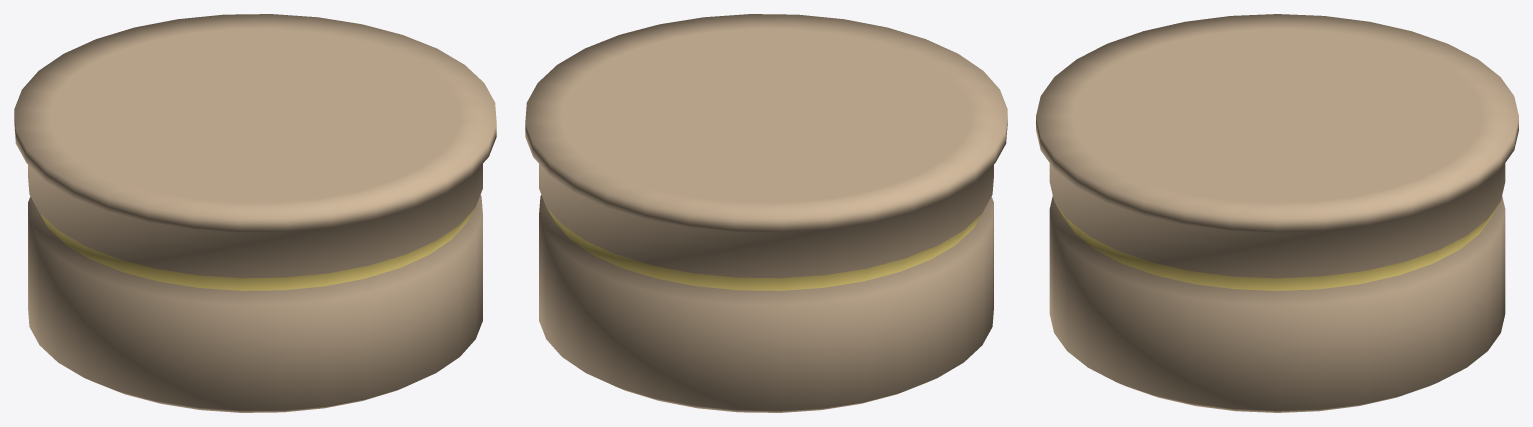
The model's file is fountain_basin.glb.
The picture shows the model from 3 angles, left to right: view 1: azimuth 30°, elevation 25°; view 2: azimuth 150°, elevation 25°; view 3: azimuth 270°, elevation 25°; orthographic projection.
Parts seen in each view (by area): view 1: fountain_basin; view 2: fountain_basin; view 3: fountain_basin.
Part boxes in pixels (<box>): fountain_basin: <box>14,14,496,412</box>; fountain_basin: <box>525,14,1007,412</box>; fountain_basin: <box>1036,14,1518,412</box>.
Bounding box in the file's own units: 2.12 × 1 × 2.12.
